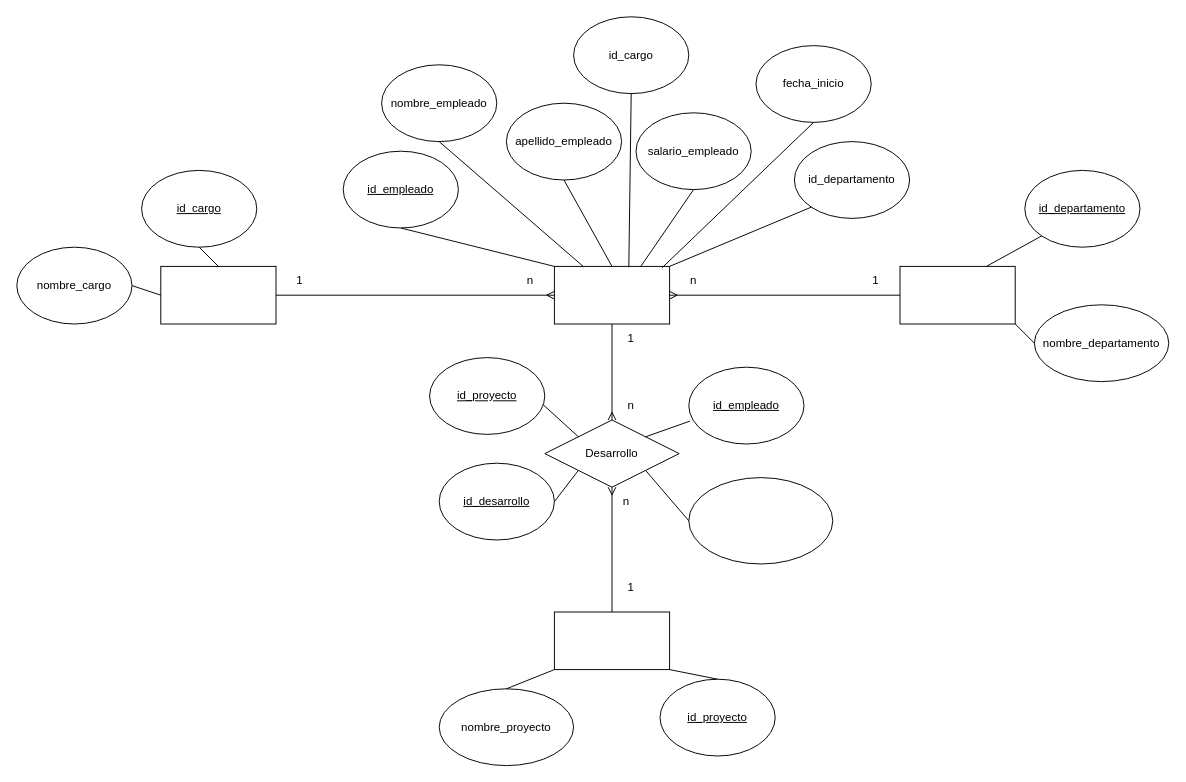
Image size: 1186x782. Some labels were removed from this diagram. The shapes that lost their labels are listed below. From the top down, each one's centre as x and y in pixels, then its label:
At (x=218, y=294): "Cargo".
At (x=611, y=294): "Empleado".
At (x=957, y=294): "Departamento".
At (x=760, y=520): "fecha_inicio_desarrollo".
At (x=611, y=640): "Proyectos".
